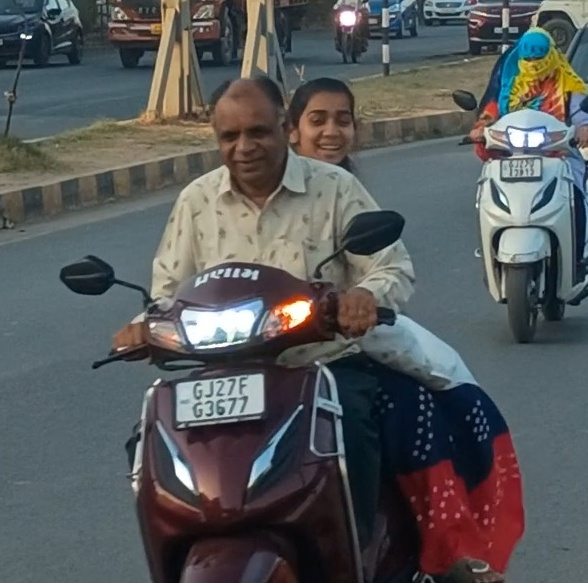BikeWithRider: (50, 66, 537, 583), (445, 23, 587, 349)
NoHelmet: (201, 71, 298, 194), (279, 72, 369, 174), (508, 24, 563, 78)
